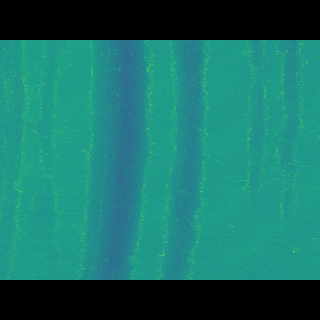Loch: (81, 68, 150, 248), (0, 68, 66, 247), (233, 69, 311, 204), (160, 69, 210, 250)
